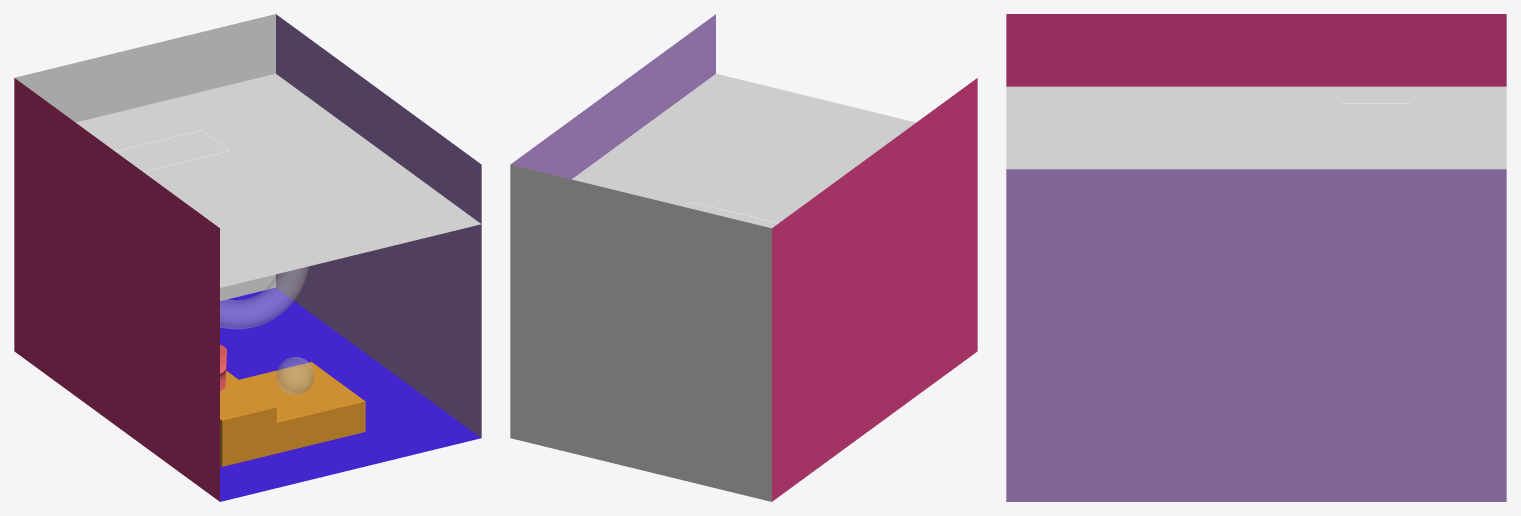
The model's file is testroom-3.glb.
3 views of the same model, side by side, from view 1: azimuth 30°, elevation 25°; view 2: azimuth 150°, elevation 25°; view 3: azimuth 270°, elevation 25° (orthographic). The views are drawn at different scales.
Parts seen in each view (by area): view 1: Left, Ceiling, Right, Floor, Back, Stool, Torus, Sphere; view 2: Back, Left, Ceiling, Right; view 3: Right, Ceiling, Left.
Part boxes in pixels (bbox=[...]): Left: bbox=[14, 78, 219, 501]; Ceiling: bbox=[76, 73, 480, 287]; Right: bbox=[276, 14, 481, 437]; Floor: bbox=[220, 287, 481, 501]; Back: bbox=[14, 14, 275, 300]; Stool: bbox=[220, 362, 365, 466]; Torus: bbox=[220, 266, 308, 328]; Sphere: bbox=[276, 357, 314, 394]; Back: bbox=[510, 164, 771, 501]; Left: bbox=[772, 78, 977, 501]; Ceiling: bbox=[572, 73, 915, 228]; Right: bbox=[511, 14, 715, 179]; Right: bbox=[1006, 169, 1506, 501]; Ceiling: bbox=[1006, 86, 1506, 169]; Left: bbox=[1006, 14, 1506, 86].
Size of the model in its own units: 2.09 by 2.25 by 2.85.
